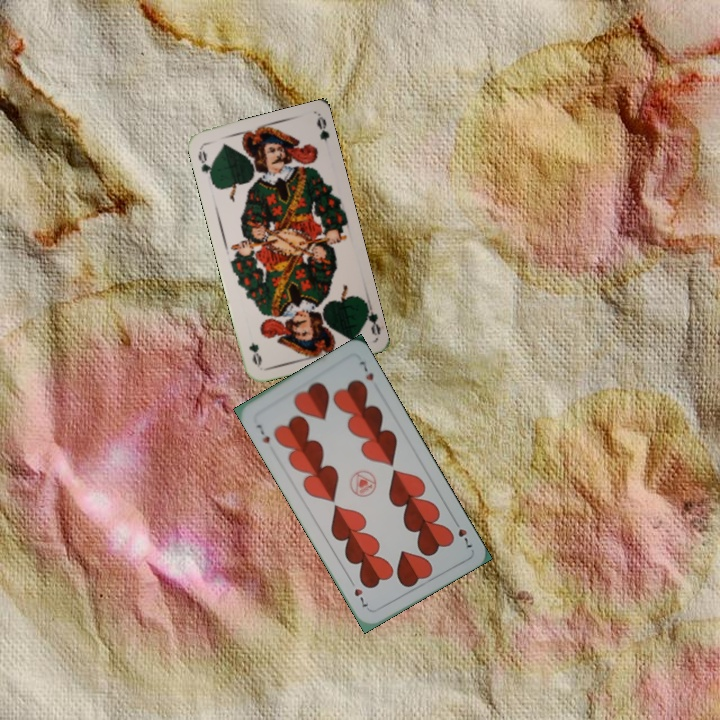GO: (360, 296, 383, 337), (194, 145, 215, 184)
H7: (449, 515, 475, 551), (252, 420, 273, 446)
